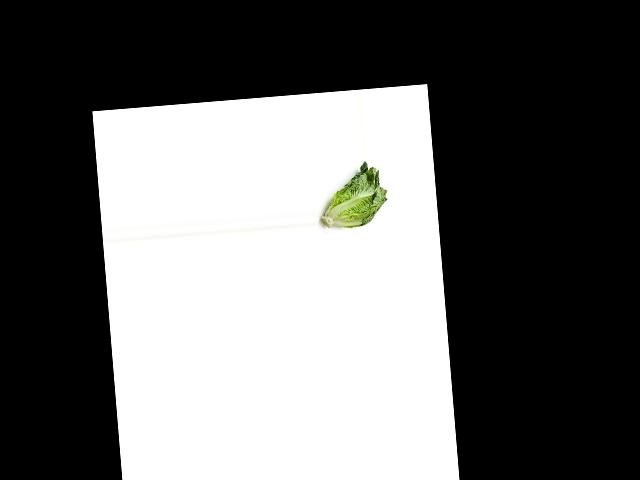lettuce: (319, 160, 392, 232)
